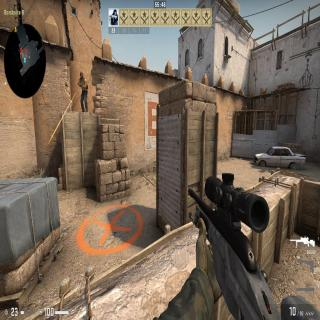T-Body: (77, 70, 89, 112)
T-Head: (80, 72, 83, 79)
